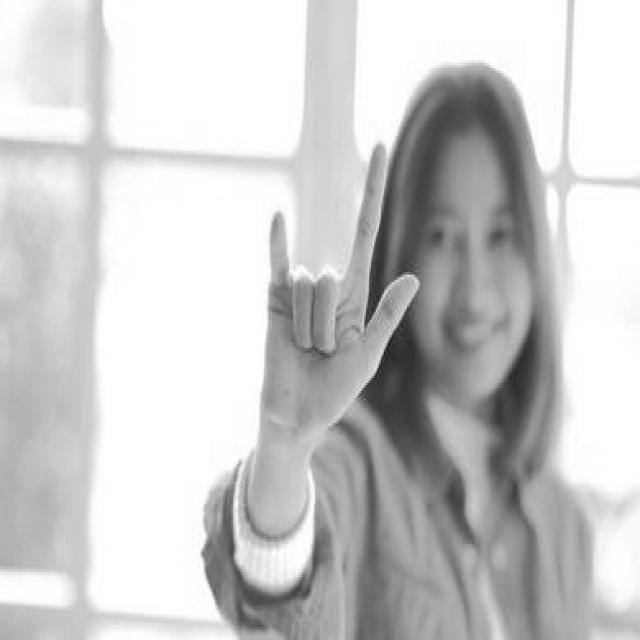i love you: (254, 134, 422, 460)
